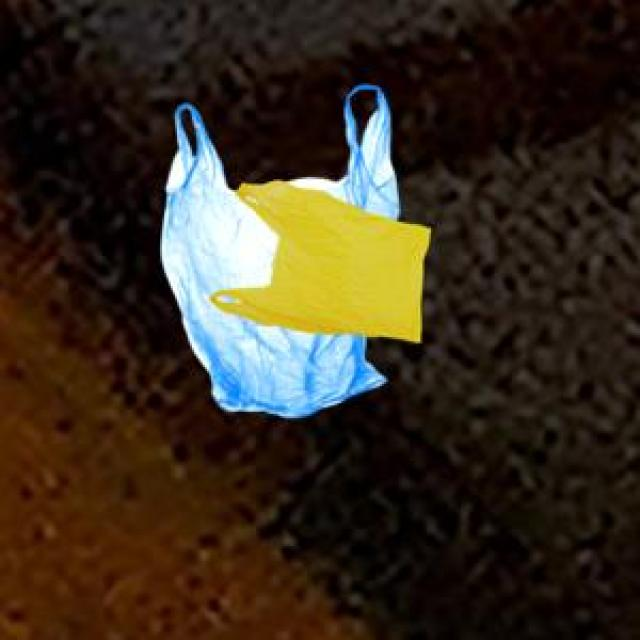plastic: (131, 80, 455, 458)
